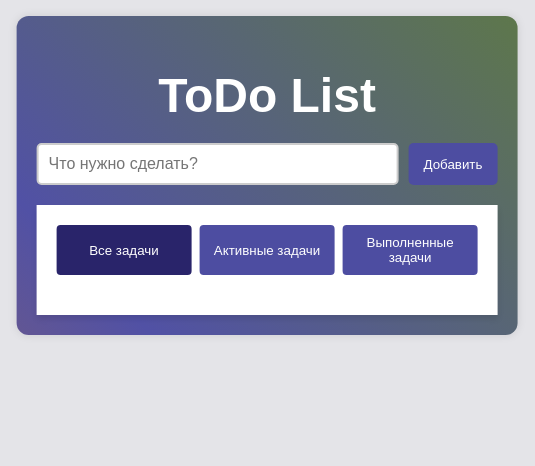
it: Add new task
Type "New Task" into the field with placeholder "Что нужно сделать?" at (218, 164), box [37,143,398,185]
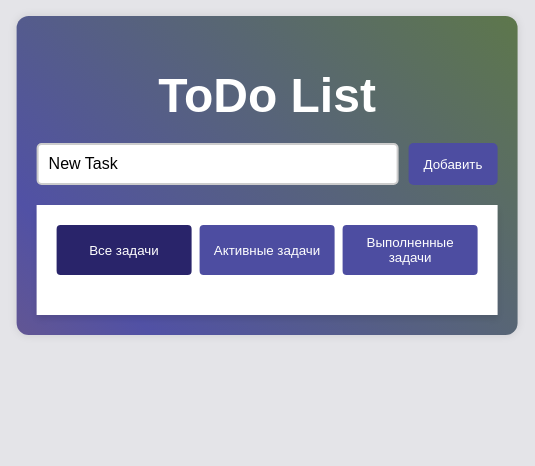
Click the button "Добавить" at (453, 164), box [408,143,497,185]
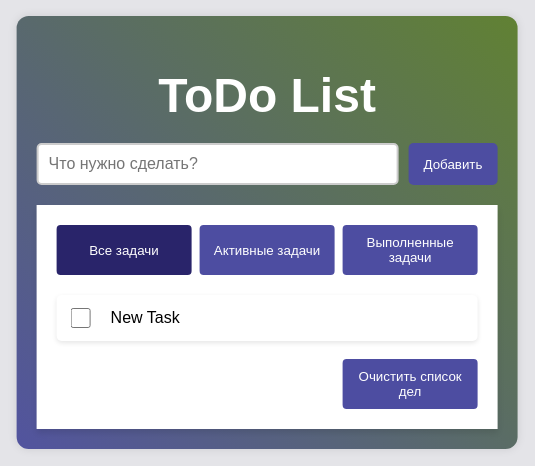
Now the text "New Task" is shown, box [111,309,180,327]
